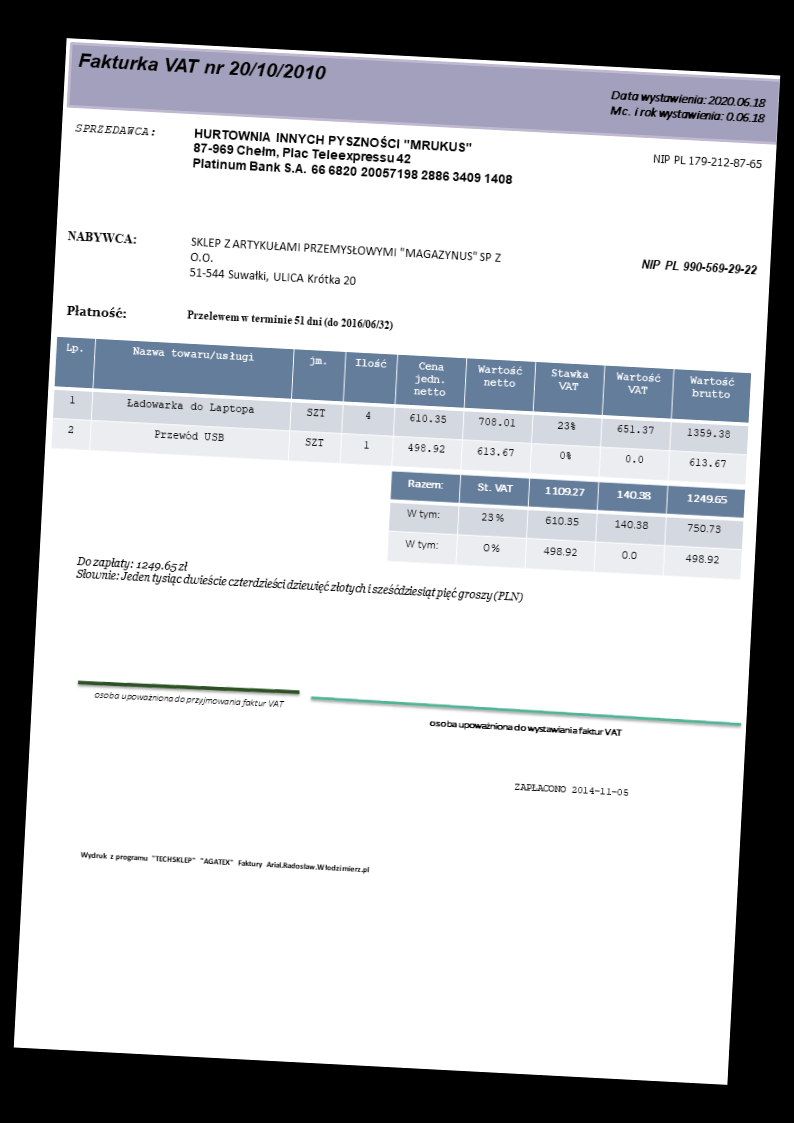Table: (49, 334, 752, 487), (385, 469, 746, 581)
TextBox: (72, 552, 527, 607), (189, 123, 517, 190), (188, 234, 502, 296), (75, 49, 329, 84), (78, 847, 374, 876), (606, 86, 772, 125), (184, 307, 394, 333), (91, 687, 286, 712), (425, 716, 624, 740), (639, 255, 758, 278), (648, 149, 763, 172), (512, 780, 630, 799), (71, 120, 158, 138), (65, 227, 139, 246), (66, 301, 128, 321)
